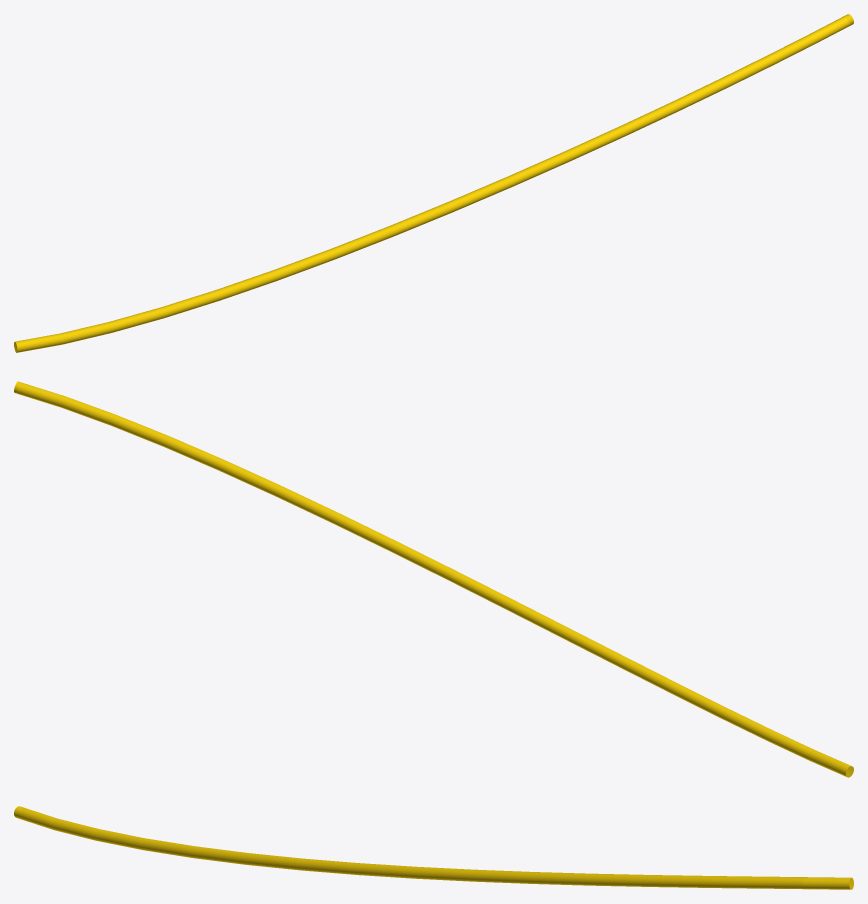
The model's file is Event_420094457_track_71.fbx.
3 views of the same model, one above another, from view 1: azimuth 30°, elevation 25°; view 2: azimuth 150°, elevation 25°; view 3: azimuth 330°, elevation 25° (orthographic). The views are drawn at different scales.
Visible parts, largest first — view 1: Model; view 2: Model; view 3: Model.
Part boxes in pixels (x1,y1,x2,y2): Model: (14, 14, 853, 352); Model: (14, 381, 853, 777); Model: (14, 806, 853, 889).
Bounding box in the file's own units: 3.28 × 0.6099 × 0.2746.
